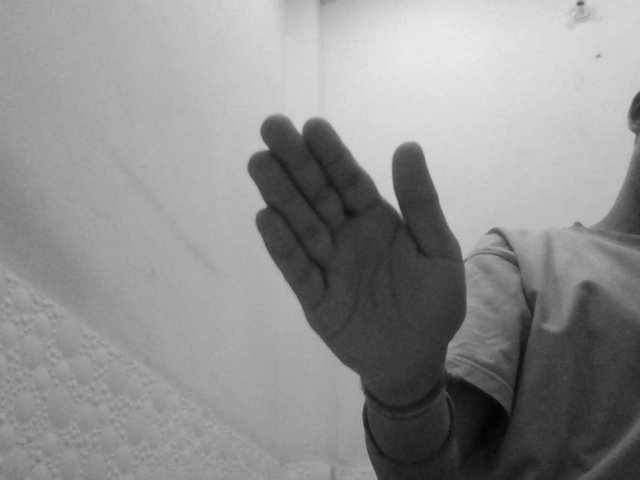Hello: (241, 110, 469, 396)
